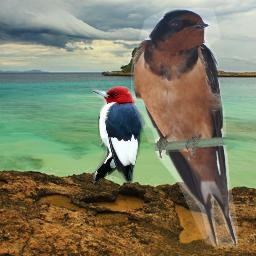Swallow: (131, 8, 238, 248)
Woodpecker: (91, 83, 145, 188)
